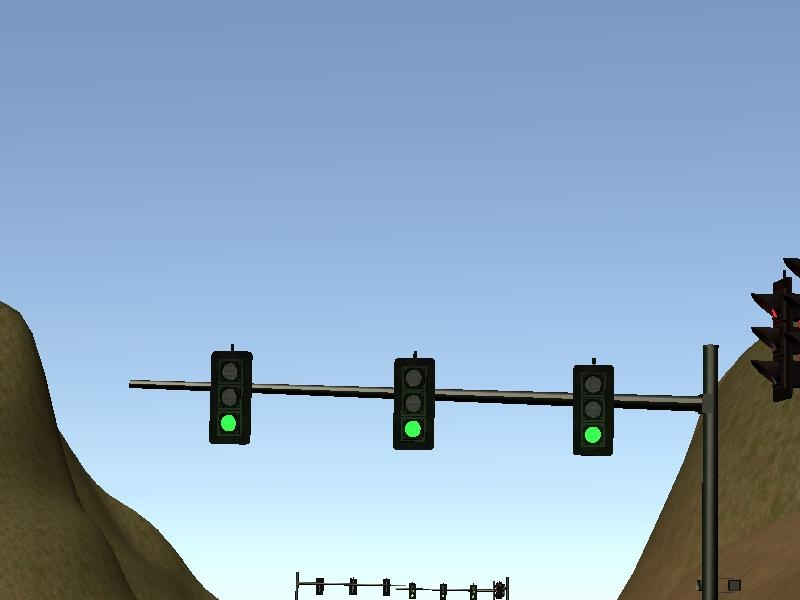traffic_light_green: (174, 340, 704, 458)
